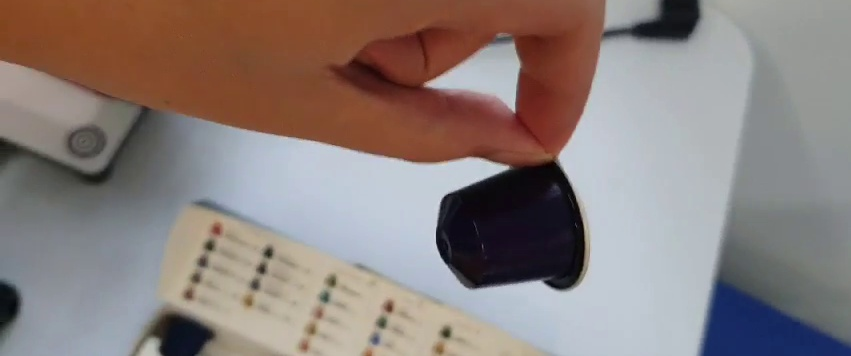capsule_2: (429, 148, 586, 295)
